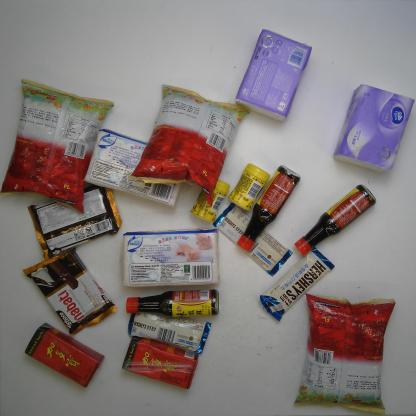Chocolate: (212, 202, 294, 278), (259, 246, 336, 323), (126, 312, 212, 355)
Dessert: (21, 245, 118, 336), (27, 184, 122, 260)
Drink: (23, 322, 105, 389), (121, 336, 199, 390)
Gum: (227, 163, 270, 212), (190, 180, 231, 223)
Puffed Food: (0, 78, 116, 214), (128, 83, 252, 207), (292, 292, 396, 414)
Seasoner: (294, 183, 377, 256), (236, 164, 301, 252), (125, 288, 220, 318)
Tissue: (82, 128, 182, 207), (332, 83, 416, 174), (234, 28, 313, 124), (121, 226, 221, 288)
